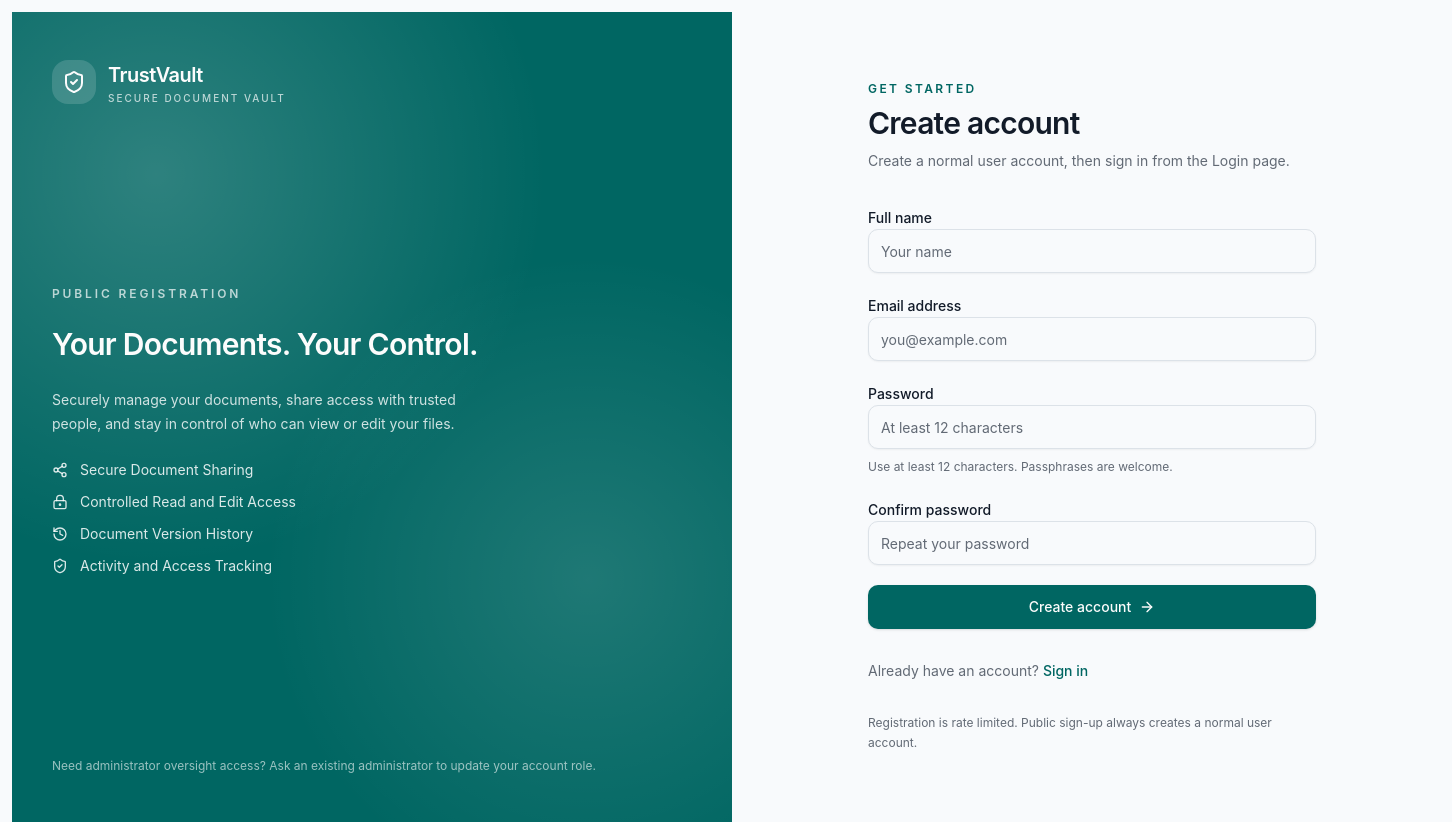
Scenario: RegisterPage › navigates to /verify-account with accountCreated false when ambiguous no-session result is returned
Type "New User" into the field labelled "Full name" at (1092, 251), box [868,229,1316,273]
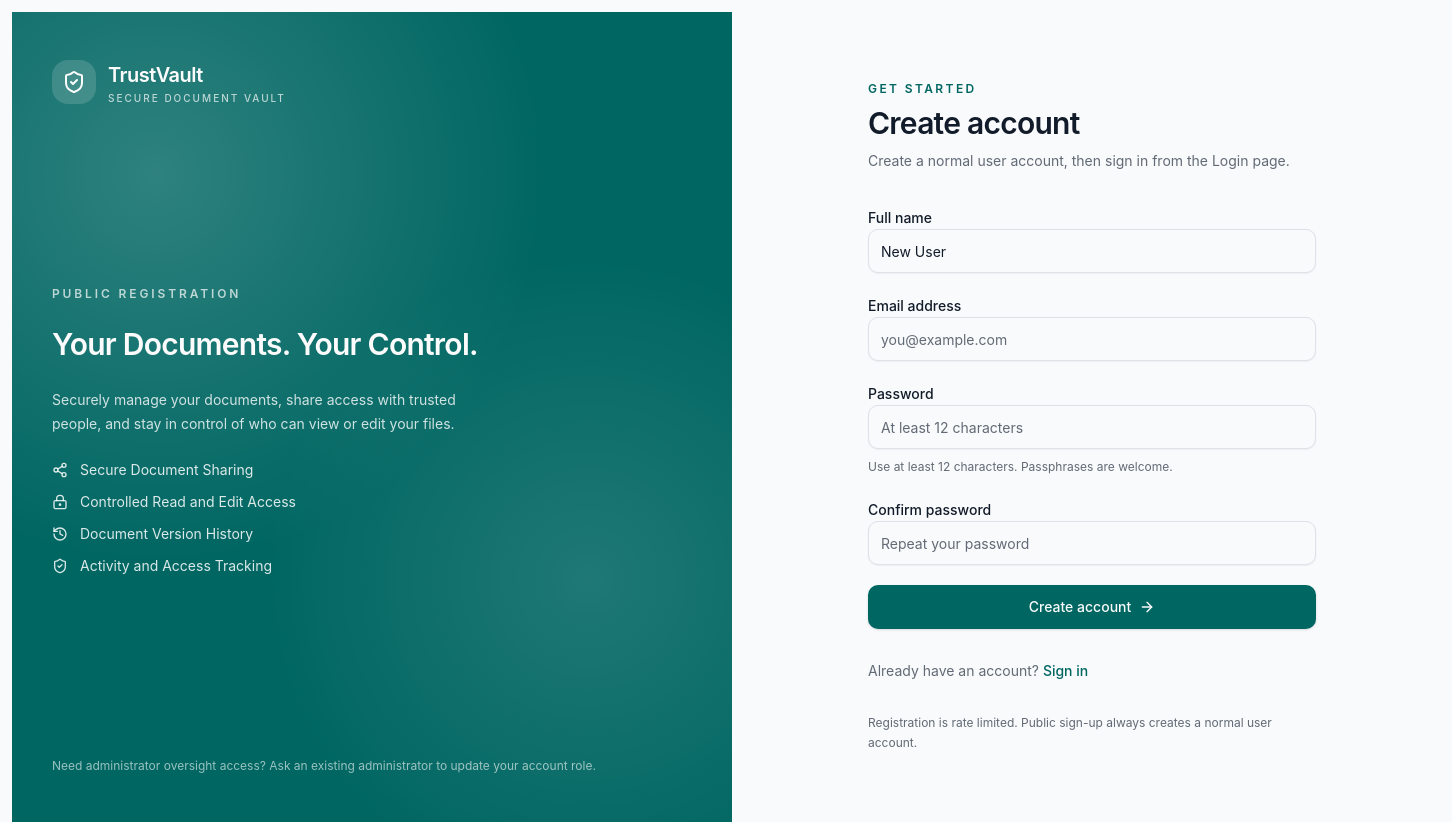
Type "new@example.com" into the field labelled "Email address" at (1092, 339), box [868,317,1316,361]
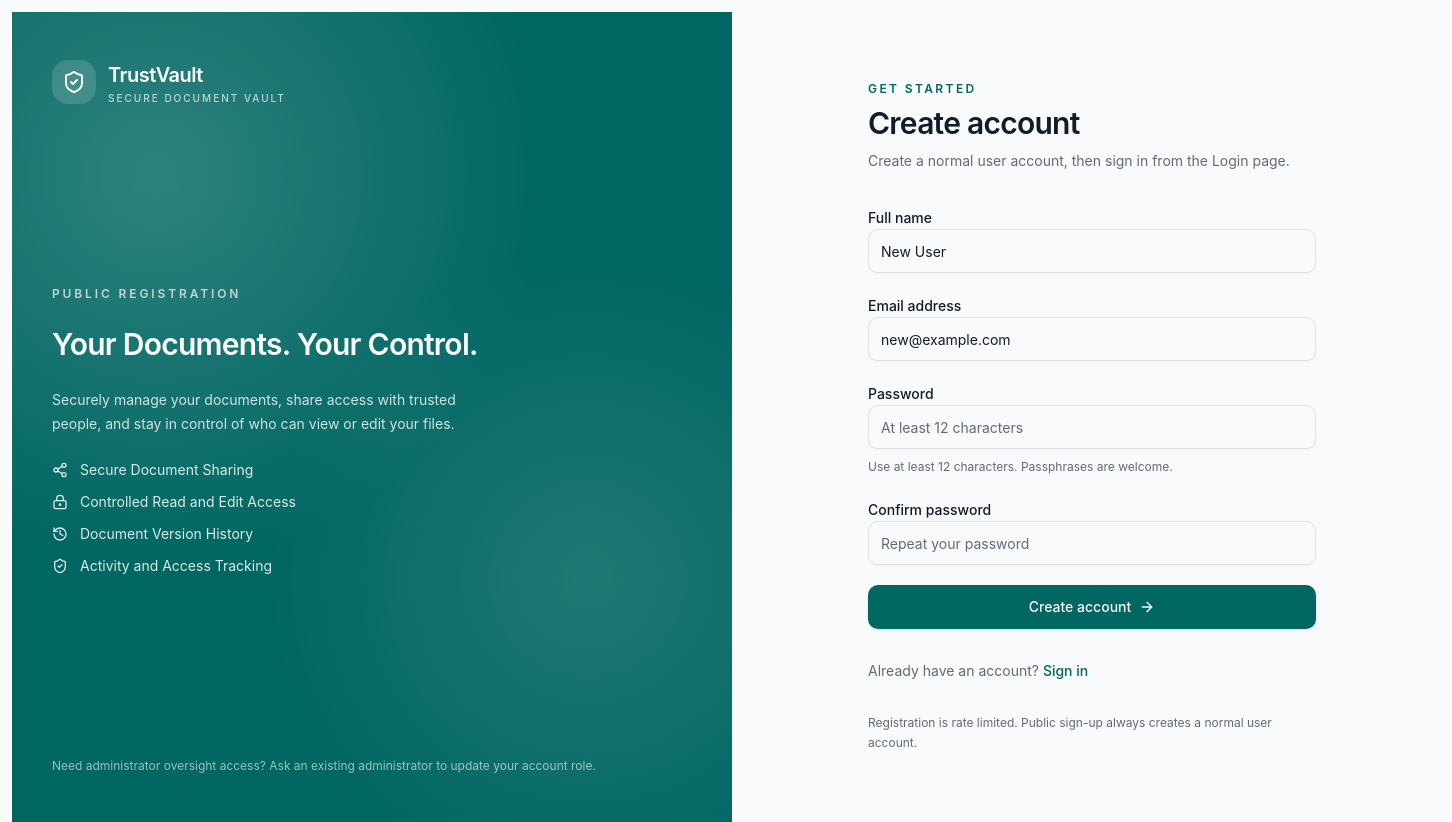
Type "a secure password 123" into the password field labelled "Password" at (1092, 427), box [868,405,1316,449]
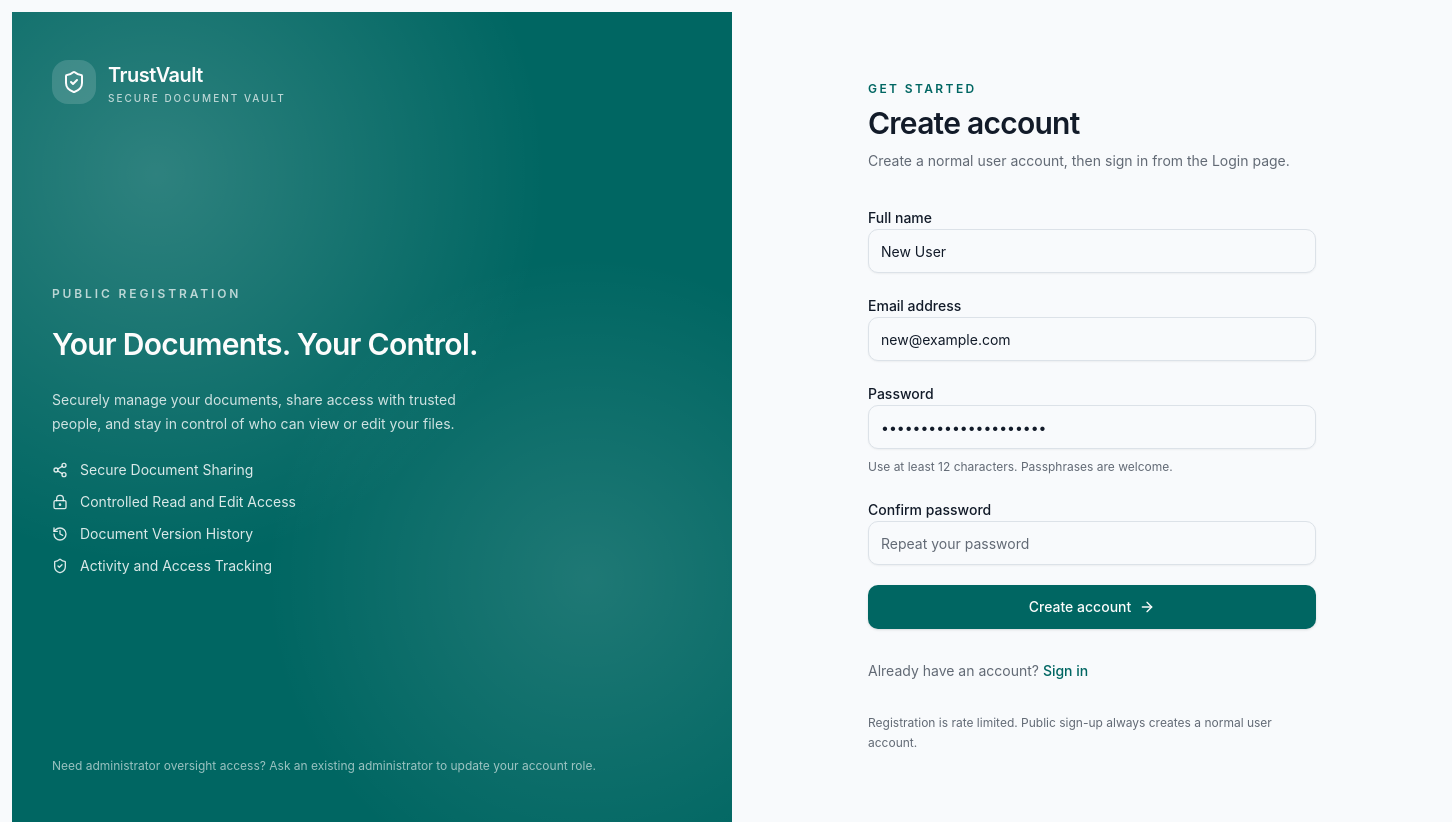
Type "a secure password 123" into the password field labelled "Confirm password" at (1092, 543), box [868,521,1316,565]
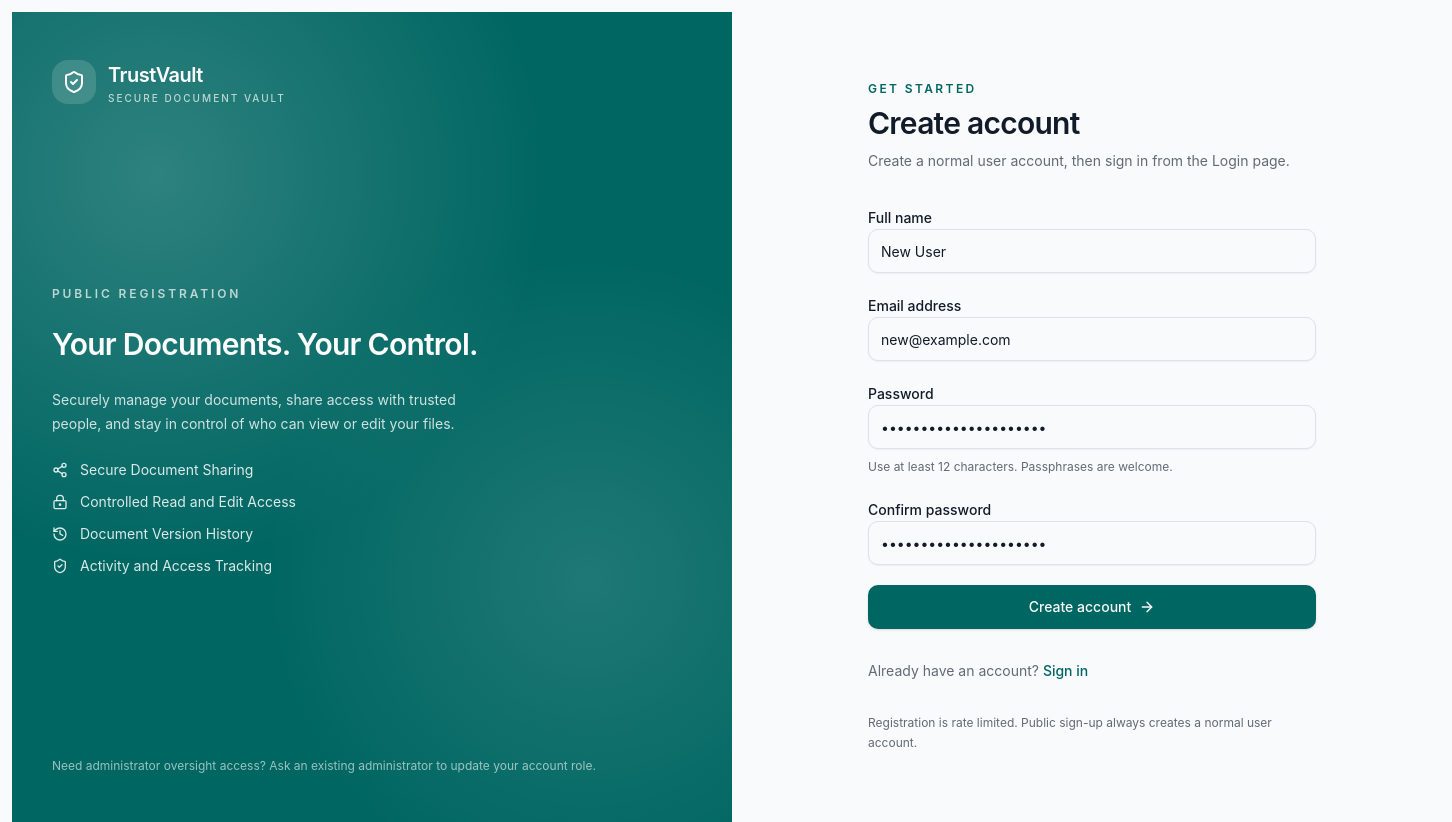
Click the button "Create account" at (1092, 607), box [868,585,1316,629]
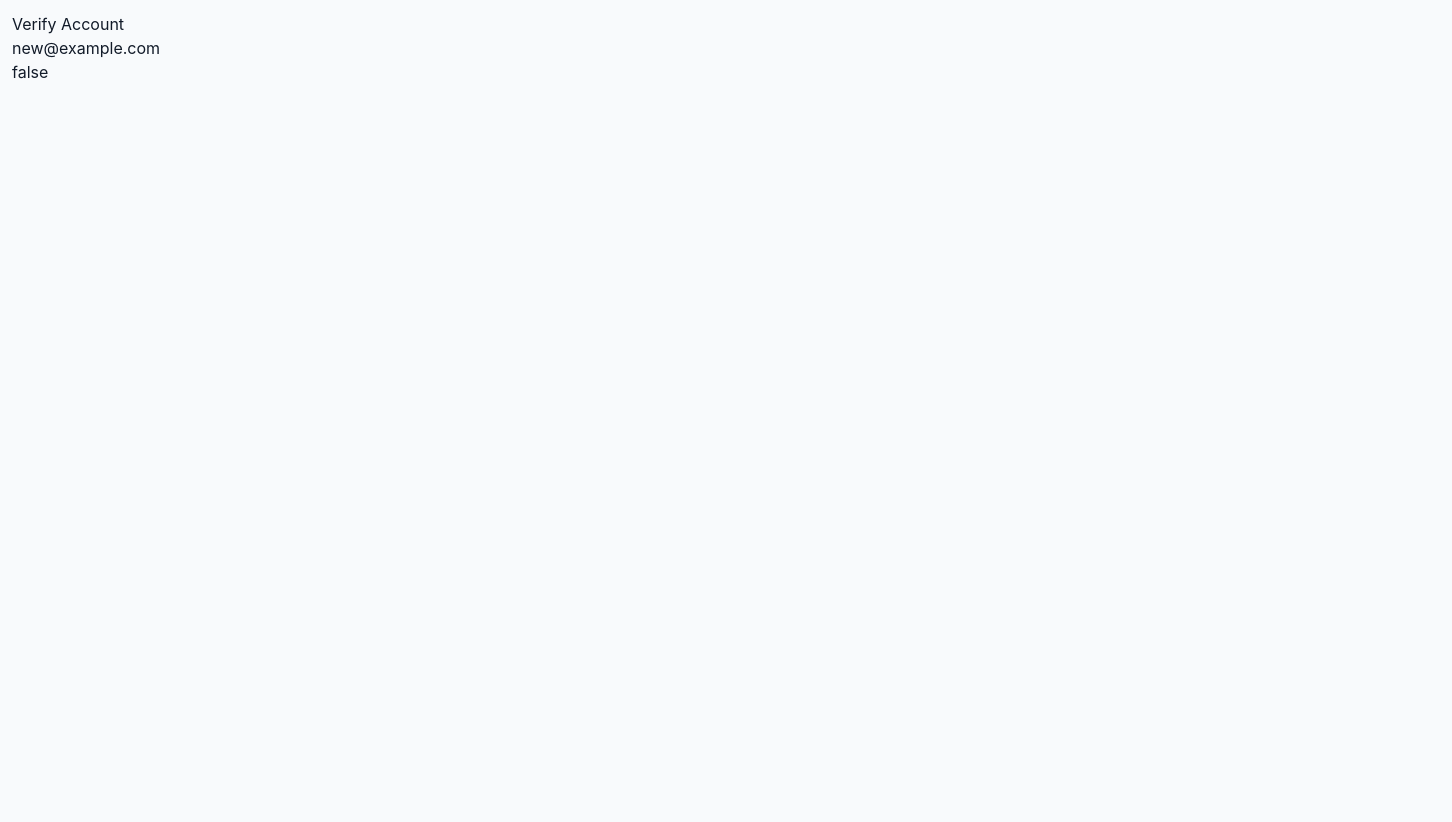
Expected: the heading "Verify Account" is shown, [12,14,124,34]
Expected: the text with test id "verify-email" reads "new@example.com", [12,38,160,58]
Expected: the text with test id "account-created" reads "false", [12,62,48,82]
